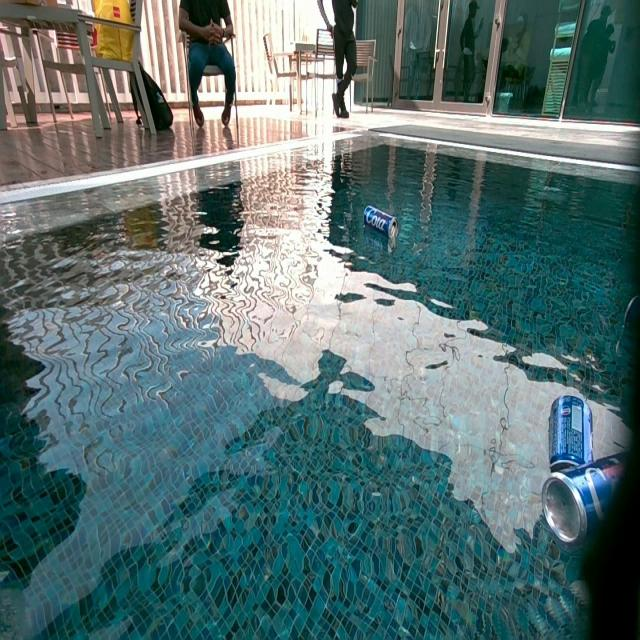Cans: (542, 447, 640, 552), (548, 392, 594, 474), (365, 206, 400, 252)
